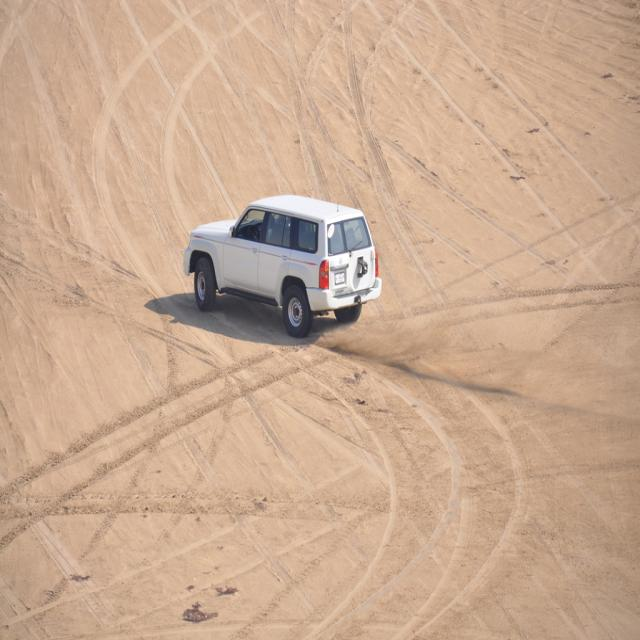car: (183, 188, 383, 336)
